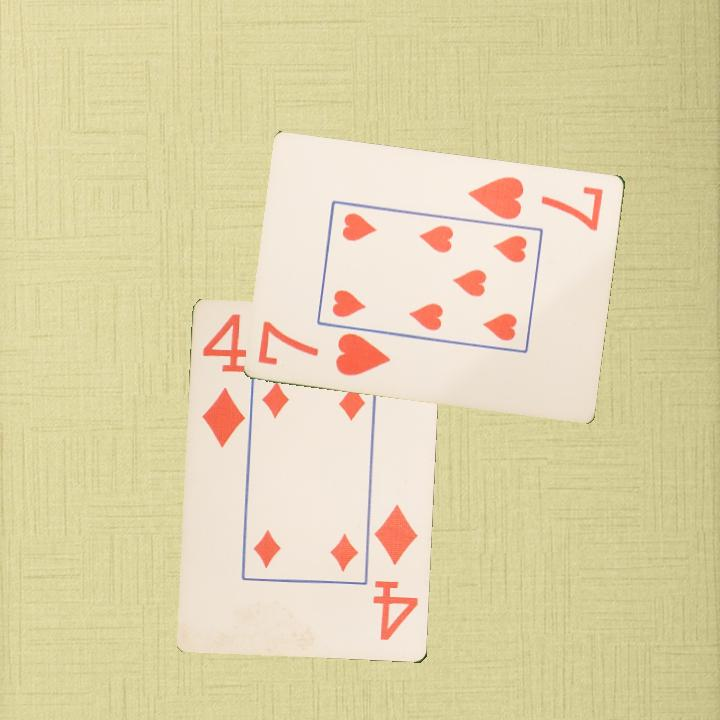4d: (198, 311, 251, 452), (370, 502, 421, 644)
7h: (464, 172, 606, 234), (255, 318, 394, 379)
